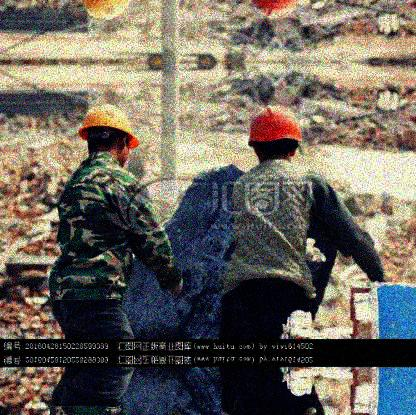helmet: (79, 103, 139, 165), (247, 107, 303, 161)
